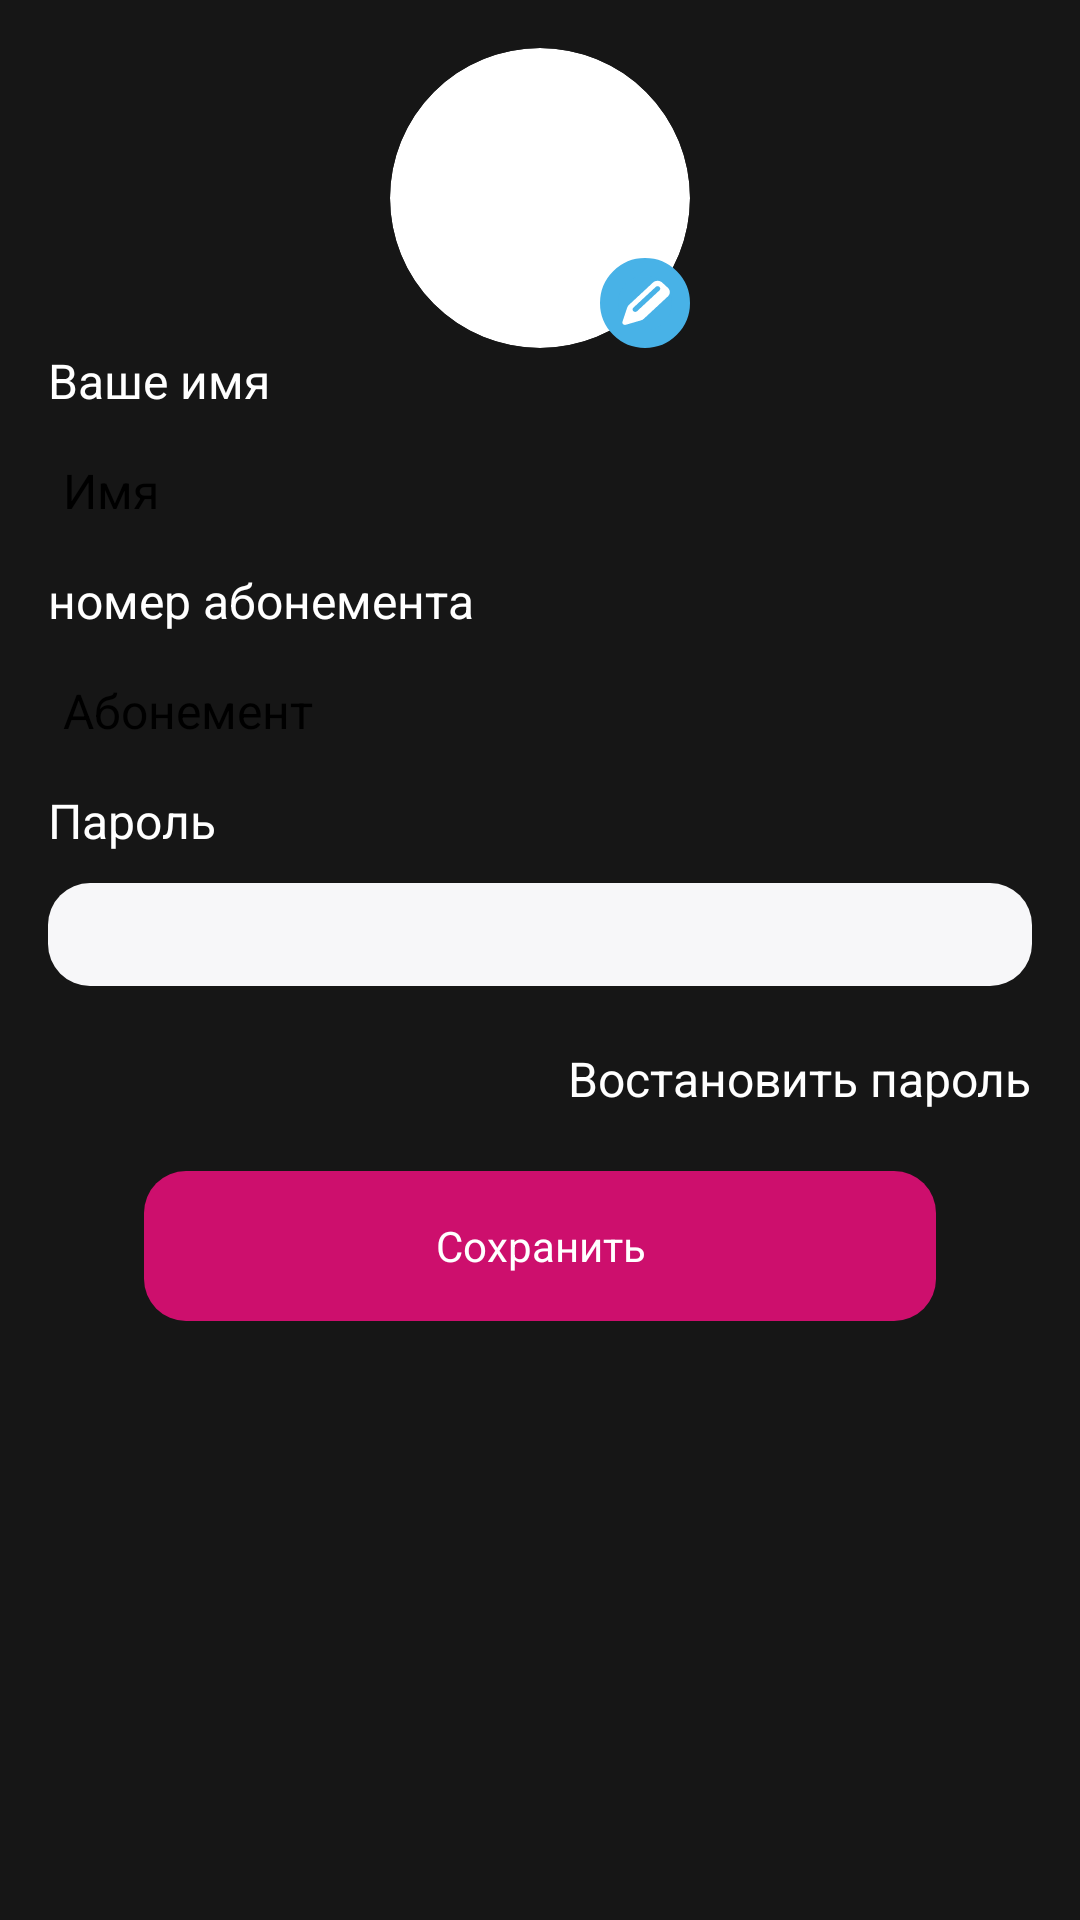

Icon click points for this 1080px×1920px phone screenshot, format point (x, y):
edit: point (645, 303)
